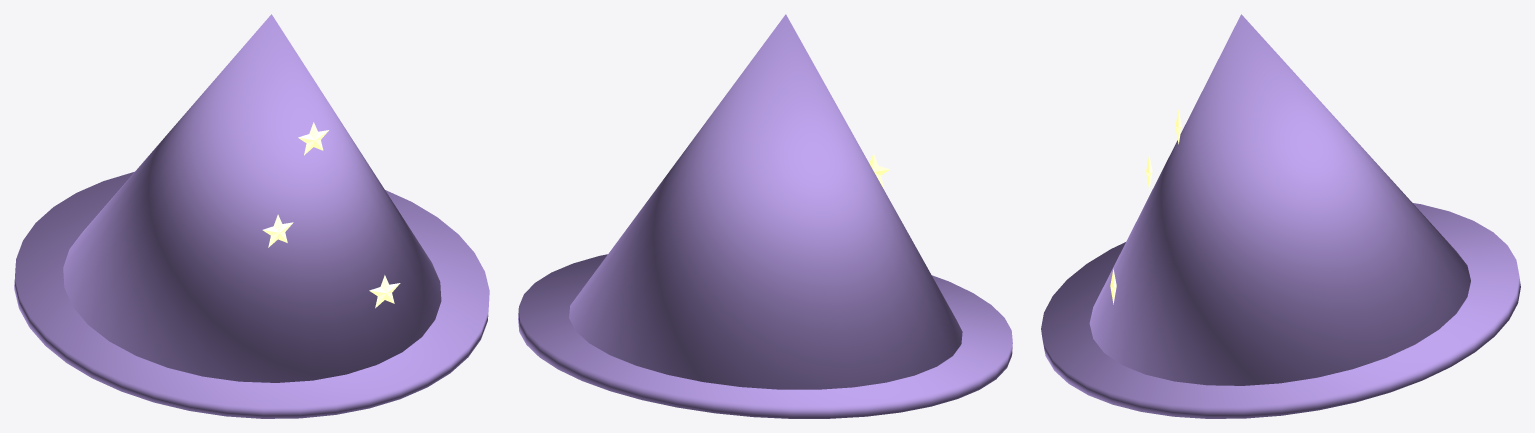
Rendered from wizard_hat.glb.
3 views of the same model, side by side, from view 1: azimuth 30°, elevation 25°; view 2: azimuth 150°, elevation 25°; view 3: azimuth 270°, elevation 25° (orthographic). The views are drawn at different scales.
Parts seen in each view (by area): view 1: wizard_hat; view 2: wizard_hat; view 3: wizard_hat.
Boxes of the visible parts, left/top/right/bottom form: wizard_hat: left=14, top=14, right=489, bottom=418; wizard_hat: left=518, top=14, right=1012, bottom=418; wizard_hat: left=1041, top=14, right=1520, bottom=418.
Size of the model in its own units: 0.74 by 0.5532 by 0.7369.
